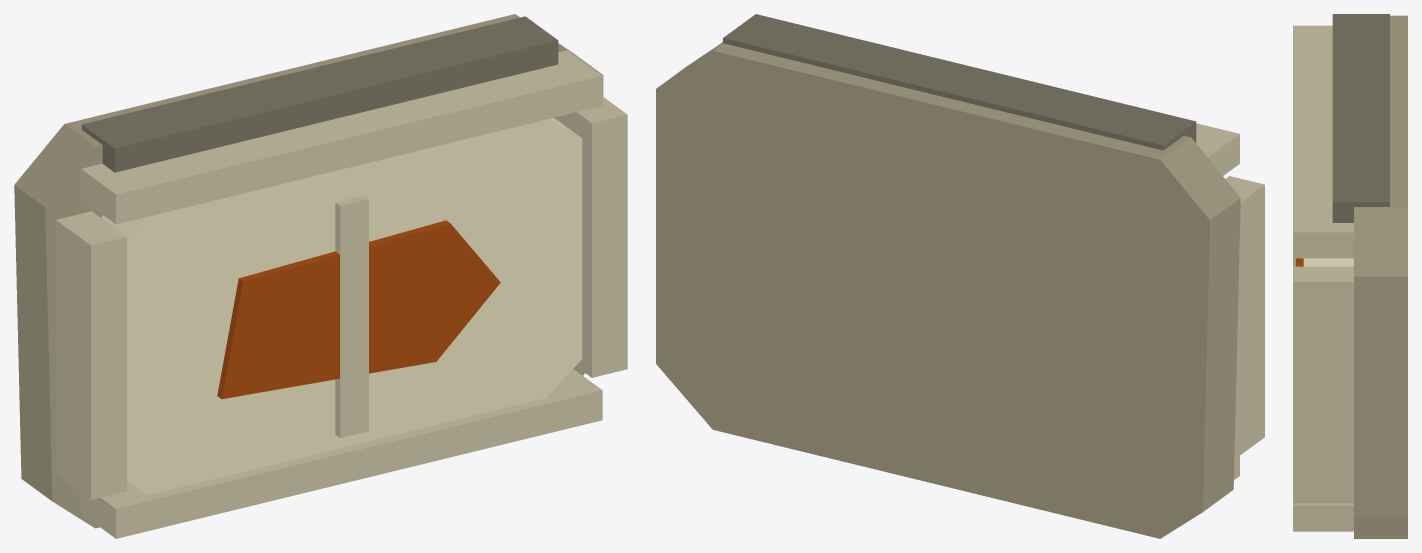
Rendered from MealTray.glb.
3 renders of one model, left to right at view 1: azimuth 30°, elevation 25°; view 2: azimuth 150°, elevation 25°; view 3: azimuth 270°, elevation 25°, orthographic. The views are drawn at different scales.
Visible parts, largest first — view 1: MealTray; view 2: MealTray; view 3: MealTray.
Boxes of the visible parts, x1,y1,x2,y2 form: MealTray: (14, 14, 627, 538); MealTray: (656, 14, 1264, 538); MealTray: (1293, 14, 1407, 538).
Size of the model in its own units: 0.78 by 0.517 by 0.16.
